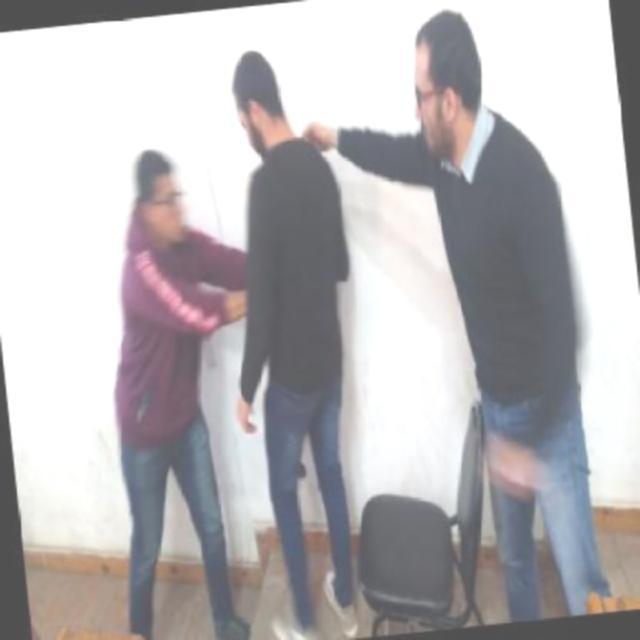fight: (88, 40, 370, 511)
